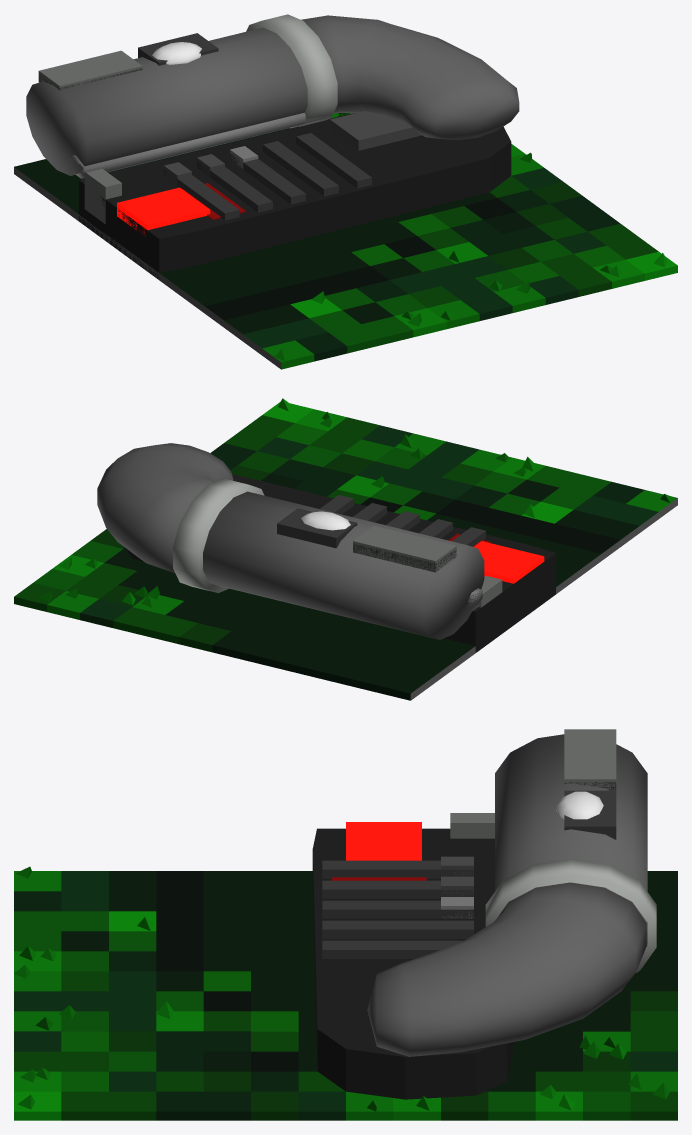
File: newshg-269.glb
3 views of the same model, one above another, from view 1: azimuth 30°, elevation 25°; view 2: azimuth 150°, elevation 25°; view 3: azimuth 270°, elevation 25° (orthographic). The views are drawn at different scales.
Parts seen in each view (by area): view 1: newshg-269, newshg-269-hatch0, newshg-269-lights; view 2: newshg-269, newshg-269-hatch0; view 3: newshg-269, newshg-269-hatch0, newshg-269-lights.
Part boxes in pixels (x1,y1,x2,y2): newshg-269: (14, 14, 677, 369); newshg-269-hatch0: (38, 50, 142, 89); newshg-269-lights: (164, 146, 258, 185); newshg-269: (14, 398, 677, 700); newshg-269-hatch0: (353, 526, 456, 572); newshg-269: (14, 734, 677, 1120); newshg-269-hatch0: (564, 729, 616, 790); newshg-269-lights: (441, 856, 473, 918).
Bounding box in the file's own units: 2 × 0.61 × 2.33.
